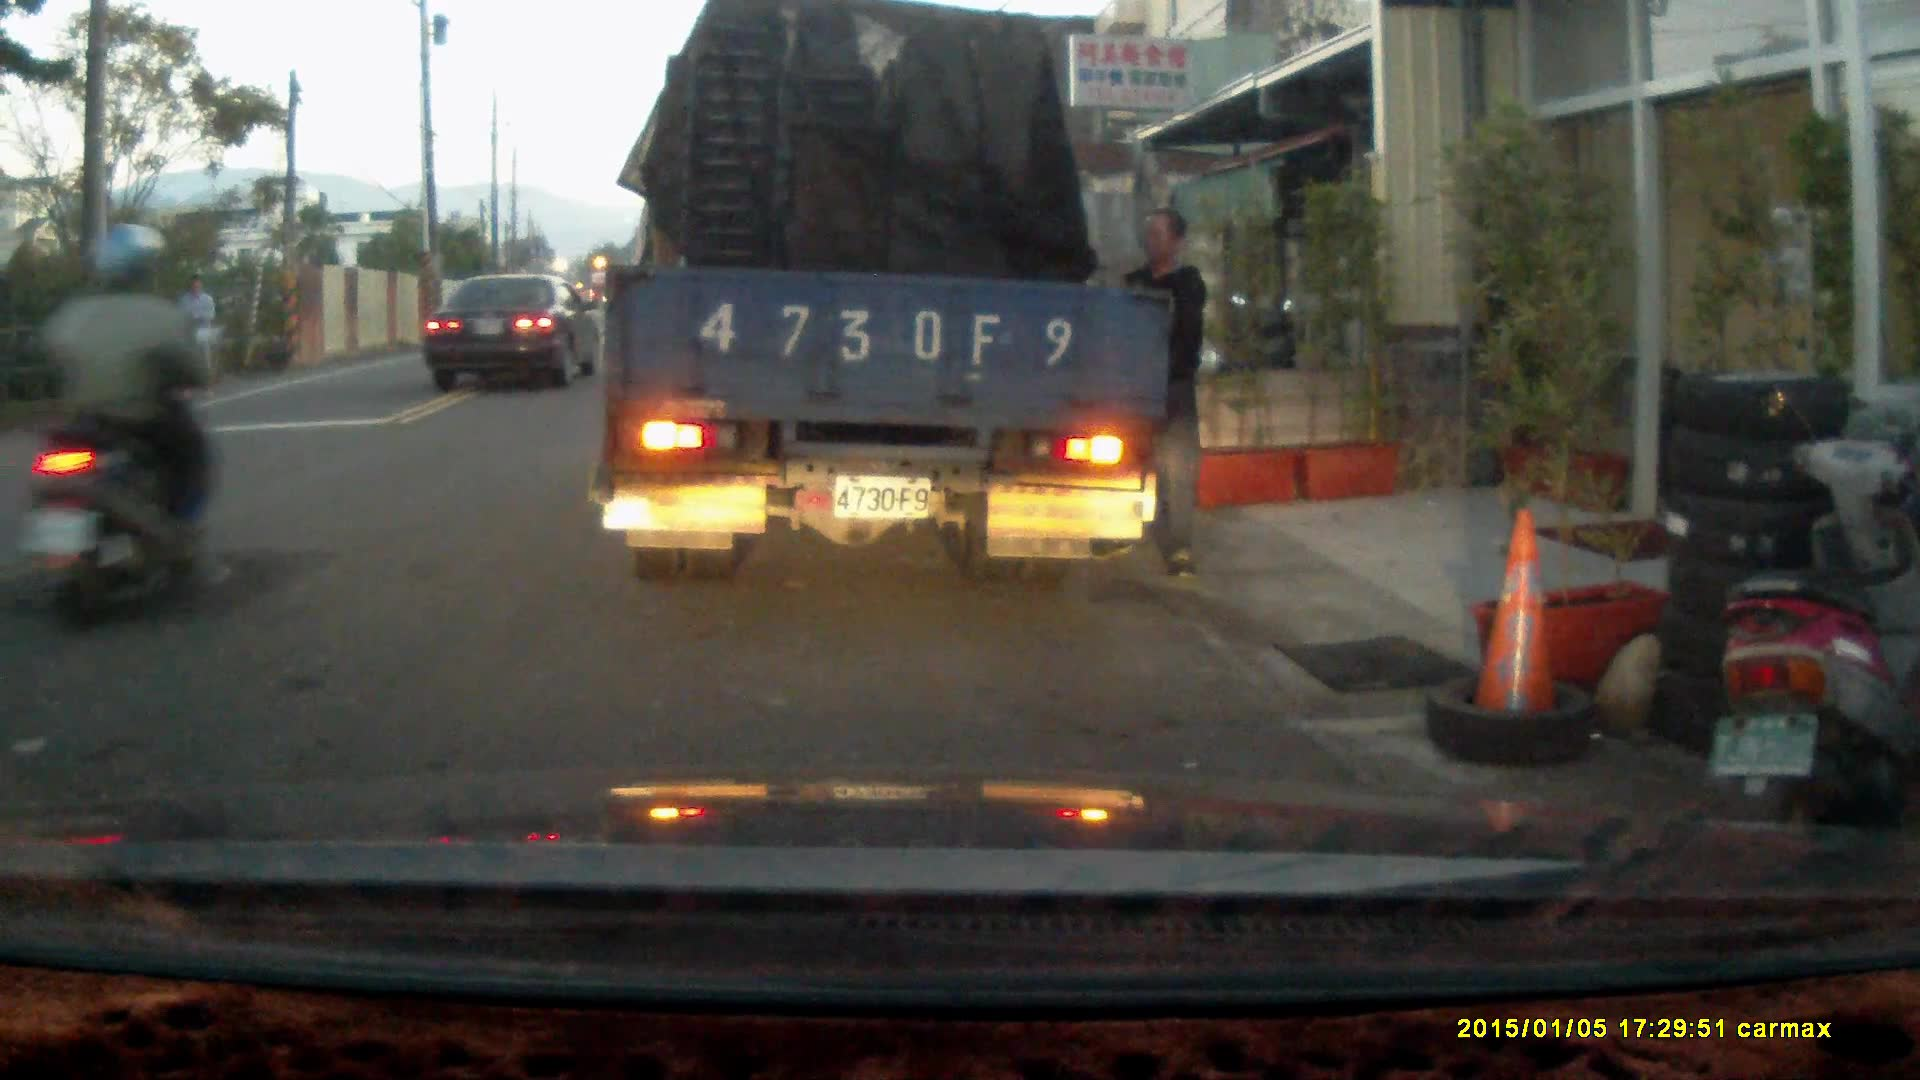pedestrian: (1084, 205, 1212, 580), (175, 273, 221, 406)
rider: (27, 219, 217, 643)
vehicle: (603, 23, 1173, 572), (429, 271, 600, 394)
